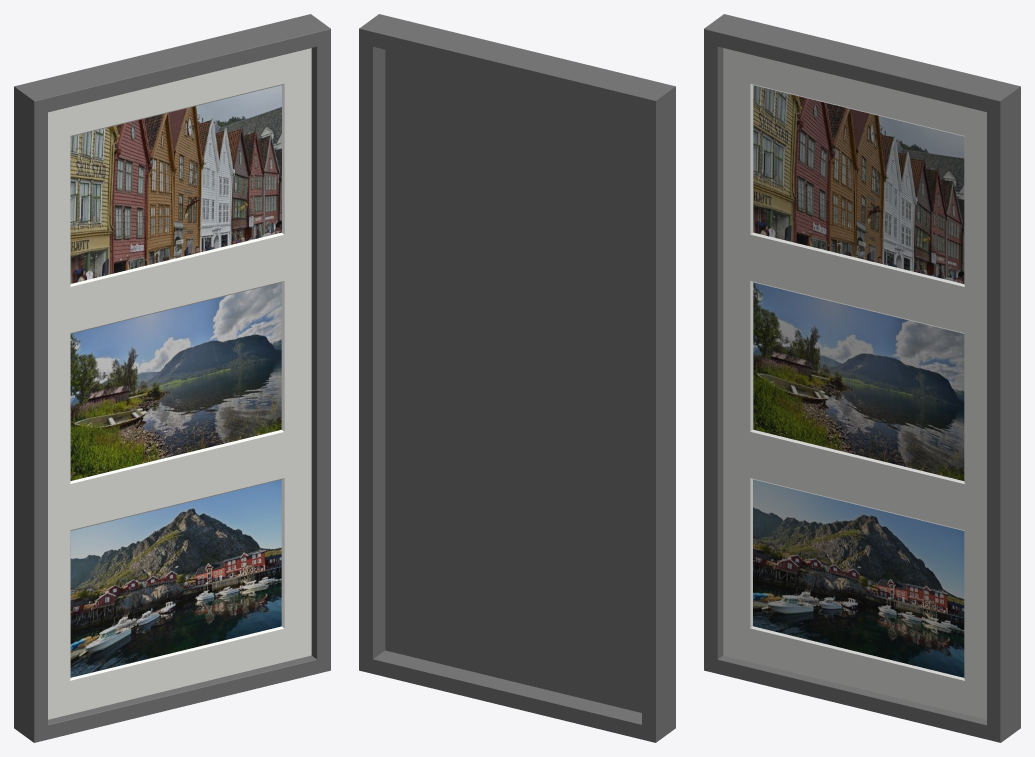
The model's file is sweethome3d-contributions-frame-norway-photos.glb.
3 renders of one model, left to right at view 1: azimuth 30°, elevation 25°; view 2: azimuth 150°, elevation 25°; view 3: azimuth 330°, elevation 25°, orthographic.
Parts seen in each view (by area): view 1: Inner_frame_Cube.003, Frame_Cube.001, Photo1_Plane.001, Photo2_Plane, Photo3_Plane.002; view 2: Frame_Cube.001; view 3: Inner_frame_Cube.003, Frame_Cube.001, Photo1_Plane.001, Photo2_Plane, Photo3_Plane.002.
Boxes of the visible parts, left/top/right/bottom form: Inner_frame_Cube.003: left=48, top=48, right=311, bottom=719; Frame_Cube.001: left=14, top=14, right=330, bottom=742; Photo1_Plane.001: left=70, top=85, right=281, bottom=283; Photo2_Plane: left=70, top=282, right=281, bottom=480; Photo3_Plane.002: left=70, top=479, right=281, bottom=677; Frame_Cube.001: left=359, top=14, right=675, bottom=742; Inner_frame_Cube.003: left=723, top=48, right=986, bottom=719; Frame_Cube.001: left=704, top=14, right=1020, bottom=742; Photo1_Plane.001: left=753, top=85, right=964, bottom=283; Photo2_Plane: left=753, top=282, right=964, bottom=480; Photo3_Plane.002: left=753, top=479, right=964, bottom=677.
Size of the model in its own units: 25.4 by 52.5 by 3.
Materials: 5 (3 with a texture image).
